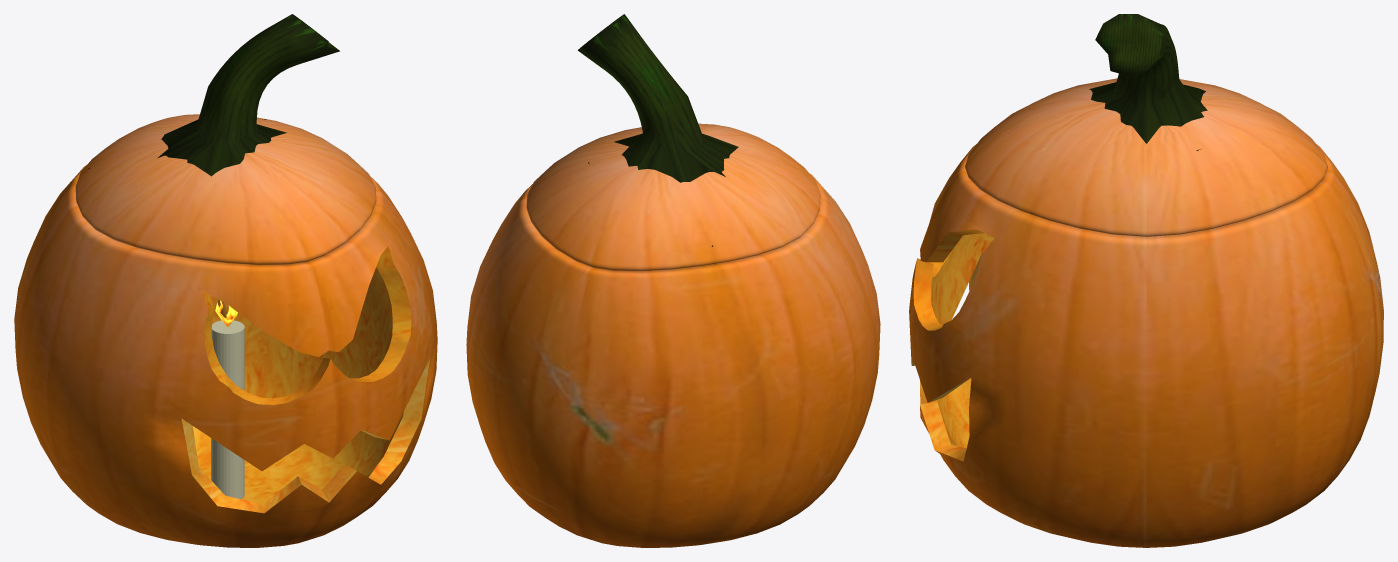
File: pumpkin1_candel.glb
3 views of the same model, side by side, from view 1: azimuth 30°, elevation 25°; view 2: azimuth 150°, elevation 25°; view 3: azimuth 270°, elevation 25° (orthographic). The views are drawn at different scales.
Parts seen in each view (by area): view 1: front_pumpkin_body; view 2: front_pumpkin_body; view 3: front_pumpkin_body.
Boxes of the visible parts, box(x1,y1,x2,y2) form: front_pumpkin_body: box(14, 14, 437, 547); front_pumpkin_body: box(466, 14, 880, 547); front_pumpkin_body: box(909, 14, 1383, 547).
Size of the model in its own units: 7.53 by 9.43 by 7.76.
Materials: 6 (5 with a texture image).
